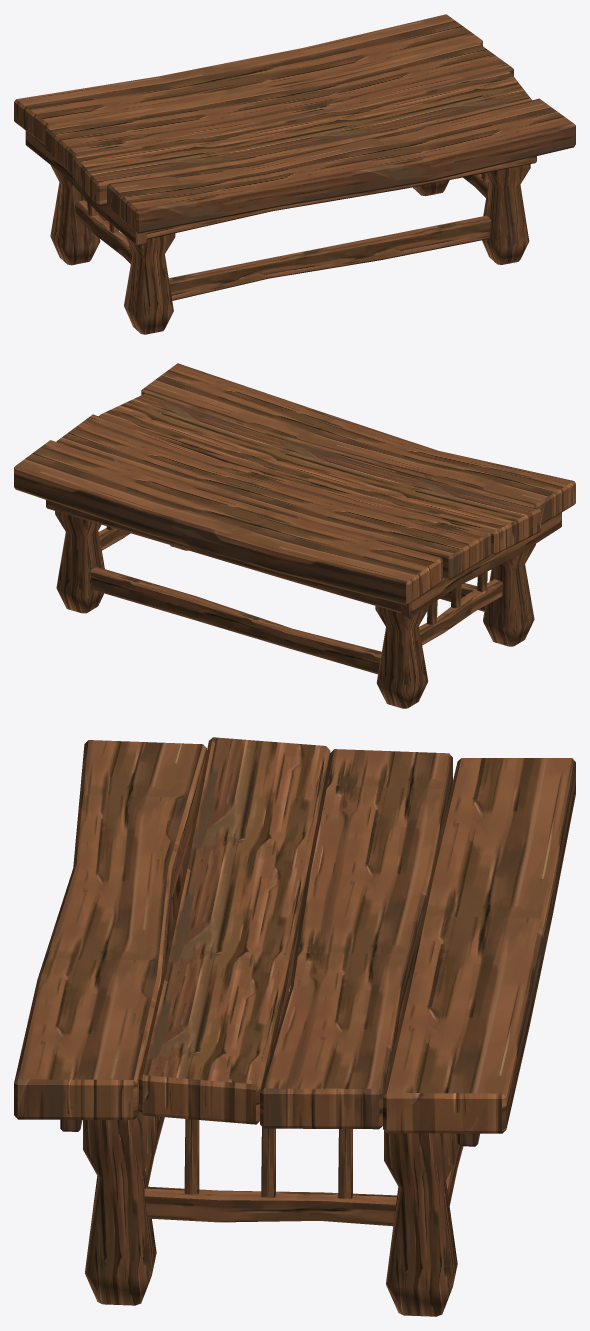
File: Table_1.fbx
3 views of the same model, one above another, from view 1: azimuth 30°, elevation 25°; view 2: azimuth 150°, elevation 25°; view 3: azimuth 270°, elevation 25° (orthographic). The views are drawn at different scales.
Visible parts, largest first — view 1: 1_Table_1; view 2: 1_Table_1; view 3: 1_Table_1.
Boxes of the visible parts, left/top/right/bottom form: 1_Table_1: left=14, top=14, right=575, bottom=334; 1_Table_1: left=14, top=363, right=575, bottom=708; 1_Table_1: left=14, top=737, right=575, bottom=1316.
Bounding box in the file's own units: 220 × 71.07 × 146.
